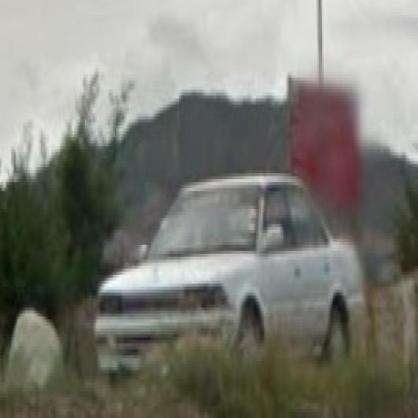car: (94, 169, 377, 385)
